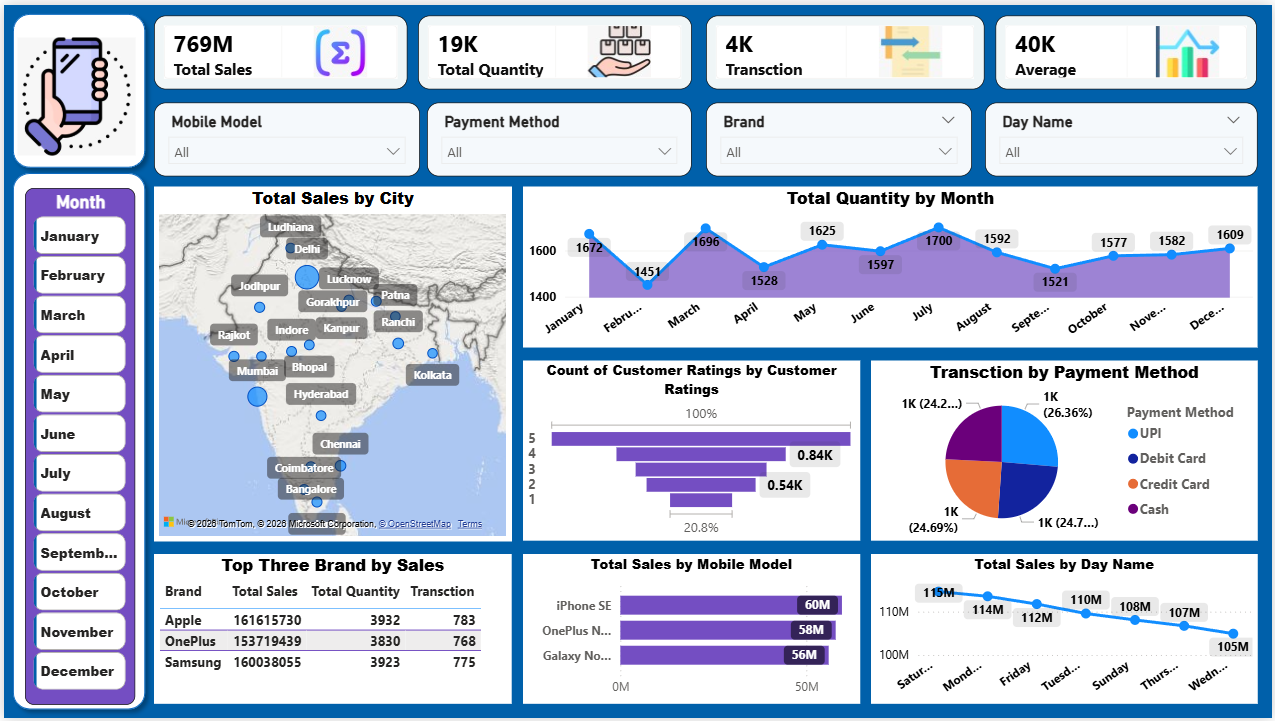

What the dashboard file says about the page in this screenshot:
{"tool":"powerbi","page":{"name":"Page 1","canvas":[1280,720],"ordinal":0},"visuals":[{"type":"shape","box":[0,0,151.7,173.3],"z":0},{"type":"shape","box":[0,160,151.7,560],"z":1000},{"type":"advancedSlicerVisual","fields":{"Values":["Mobile Sales Data.Date.Variation.Date Hierarchy.Month"]},"box":[20.7,184.5,111.3,521.7],"z":2000},{"type":"map","fields":{"Category":["Mobile Sales Data.City"],"Size":["Mobile Sales Data.Total Sales"]},"box":[151.7,183.9,361.4,358.2],"z":3000},{"type":"lineChart","fields":{"Category":["Mobile Sales Data.Date.Variation.Date Hierarchy.Month","Mobile Sales Data.Date.Variation.Date Hierarchy.Day"],"Y":["Mobile Sales Data.Total Quantity"]},"box":[524.4,183.9,742.2,163],"z":4000},{"type":"funnel","fields":{"Category":["Mobile Sales Data.Customer Ratings"],"Y":["CountNonNull(Mobile Sales Data.Customer Ratings)"]},"box":[524.4,359.8,340.4,182.3],"z":5000},{"type":"pieChart","fields":{"Category":["Mobile Sales Data.Payment Method"],"Y":["Mobile Sales Data.Transction"]},"box":[876.1,359.8,390.5,182.3],"z":6000},{"type":"lineChart","fields":{"Category":["Mobile Sales Data.Day Name"],"Y":["Mobile Sales Data.Total Sales"]},"box":[876.1,555,390.5,151.7],"z":7000},{"type":"tableEx","title":"Top Three Brand by Sales","fields":{"Values":["Mobile Sales Data.Brand","Mobile Sales Data.Total Sales","Mobile Sales Data.Total Quantity","Mobile Sales Data.Transction"]},"box":[151.7,555,361.4,151.7],"z":8000},{"type":"clusteredBarChart","fields":{"Y":["Mobile Sales Data.Total Sales"],"Category":["Mobile Sales Data.Mobile Model"]},"box":[524.4,555,340.4,151.7],"z":9000},{"type":"slicer","fields":{"Values":["Mobile Sales Data.Mobile Model"]},"box":[151.1,98.6,268.8,74.8],"z":10000},{"type":"slicer","fields":{"Values":["Mobile Sales Data.Payment Method"]},"box":[427.9,98.6,267.2,74.8],"z":11000},{"type":"slicer","fields":{"Values":["Mobile Sales Data.Brand"]},"box":[709.4,98.6,268.8,74.8],"z":12000},{"type":"slicer","fields":{"Values":["Mobile Sales Data.Day Name"]},"box":[991,98.6,275.2,74.8],"z":13000},{"type":"cardVisual","fields":{"Data":["Mobile Sales Data.Total Sales"]},"box":[151.1,11.1,256.1,74.8],"z":14000},{"type":"cardVisual","fields":{"Data":["Mobile Sales Data.Total Quantity"]},"box":[418.3,11.1,276.8,74.8],"z":15000},{"type":"cardVisual","fields":{"Data":["Mobile Sales Data.Transction"]},"box":[709.4,11.1,281.5,74.8],"z":16000},{"type":"cardVisual","fields":{"Data":["Mobile Sales Data.Average"]},"box":[1002.1,11.1,264,74.8],"z":17000},{"type":"image","box":[13.6,12.1,119.6,160.5],"z":17001}]}

Visuals, with their boxes in screenshot pixels (x1, y1, x2, y2), scaled from the page's 1280x720 canvas onto the 1275x721 screenshot:
shape: region(0, 0, 151, 174)
shape: region(0, 160, 151, 720)
advancedSlicerVisual - Mobile Sales Data.Date.Variation.Date Hierarchy.Month: region(21, 185, 131, 707)
map - Mobile Sales Data.City x Mobile Sales Data.Total Sales: region(151, 184, 511, 543)
lineChart - Mobile Sales Data.Date.Variation.Date Hierarchy.Month x Mobile Sales Data.Date.Variation.Date Hierarchy.Day: region(522, 184, 1262, 347)
funnel - Mobile Sales Data.Customer Ratings x CountNonNull(Mobile Sales Data.Customer Ratings): region(522, 360, 861, 543)
pieChart - Mobile Sales Data.Payment Method x Mobile Sales Data.Transction: region(873, 360, 1262, 543)
lineChart - Mobile Sales Data.Day Name x Mobile Sales Data.Total Sales: region(873, 556, 1262, 708)
"Top Three Brand by Sales" tableEx: region(151, 556, 511, 708)
clusteredBarChart - Mobile Sales Data.Total Sales x Mobile Sales Data.Mobile Model: region(522, 556, 861, 708)
slicer - Mobile Sales Data.Mobile Model: region(151, 99, 418, 174)
slicer - Mobile Sales Data.Payment Method: region(426, 99, 692, 174)
slicer - Mobile Sales Data.Brand: region(707, 99, 974, 174)
slicer - Mobile Sales Data.Day Name: region(987, 99, 1261, 174)
cardVisual - Mobile Sales Data.Total Sales: region(151, 11, 406, 86)
cardVisual - Mobile Sales Data.Total Quantity: region(417, 11, 692, 86)
cardVisual - Mobile Sales Data.Transction: region(707, 11, 987, 86)
cardVisual - Mobile Sales Data.Average: region(998, 11, 1261, 86)
image: region(14, 12, 133, 173)
